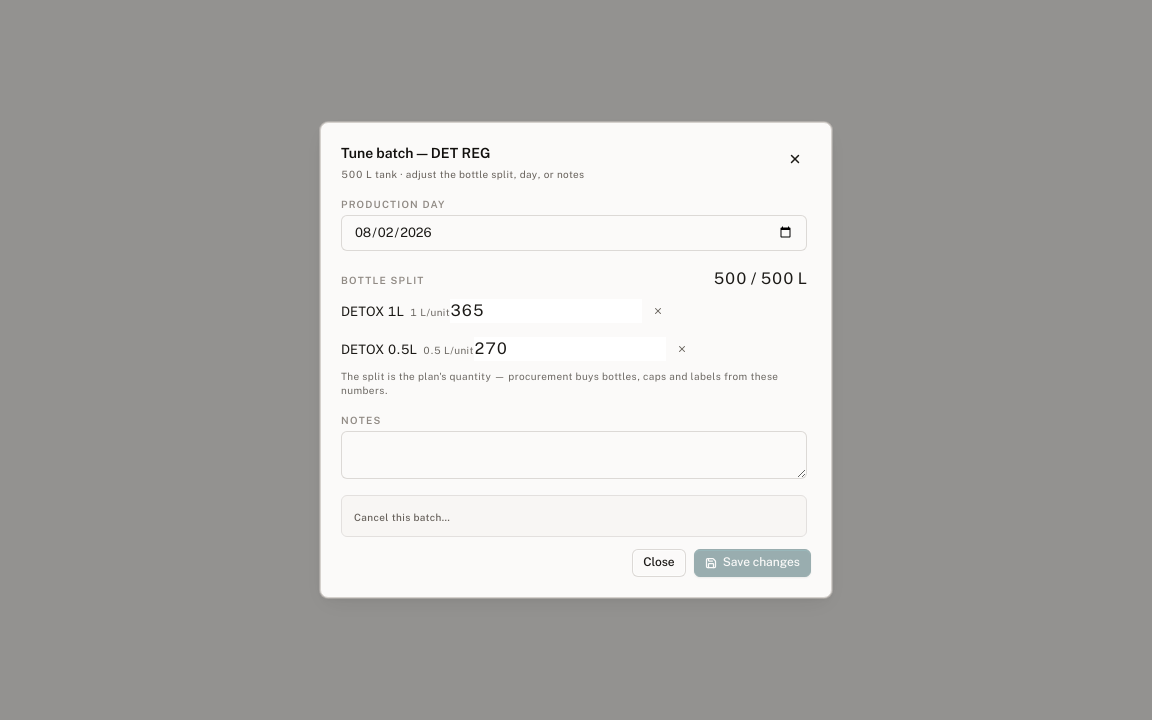
Test: BatchTuneDialog (base batch) › opens the cancel panel from the danger zone
Click the button with test id "batch-tune-cancel-open". click: click(402, 517)
box: [354,510,450,524]
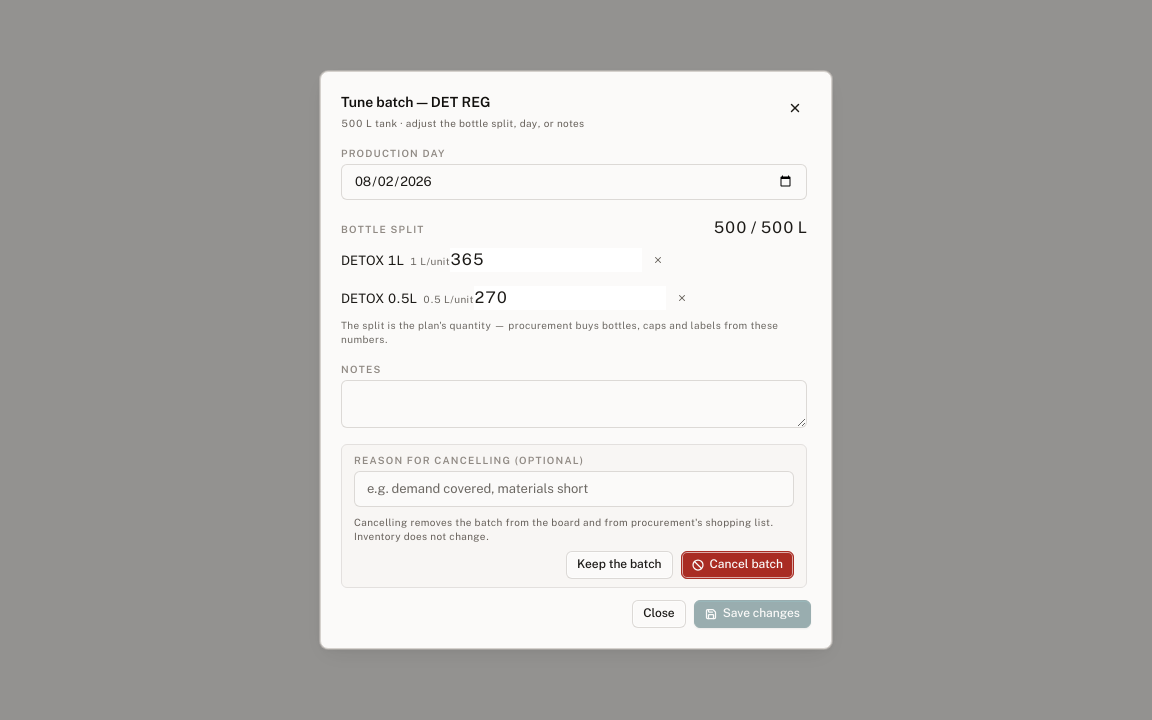
Check: the element with test id "batch-tune-cancel-panel" is shown, box [354,453,794,579]
Check: the button with test id "batch-tune-cancel-confirm" is shown, box [681,551,794,579]
